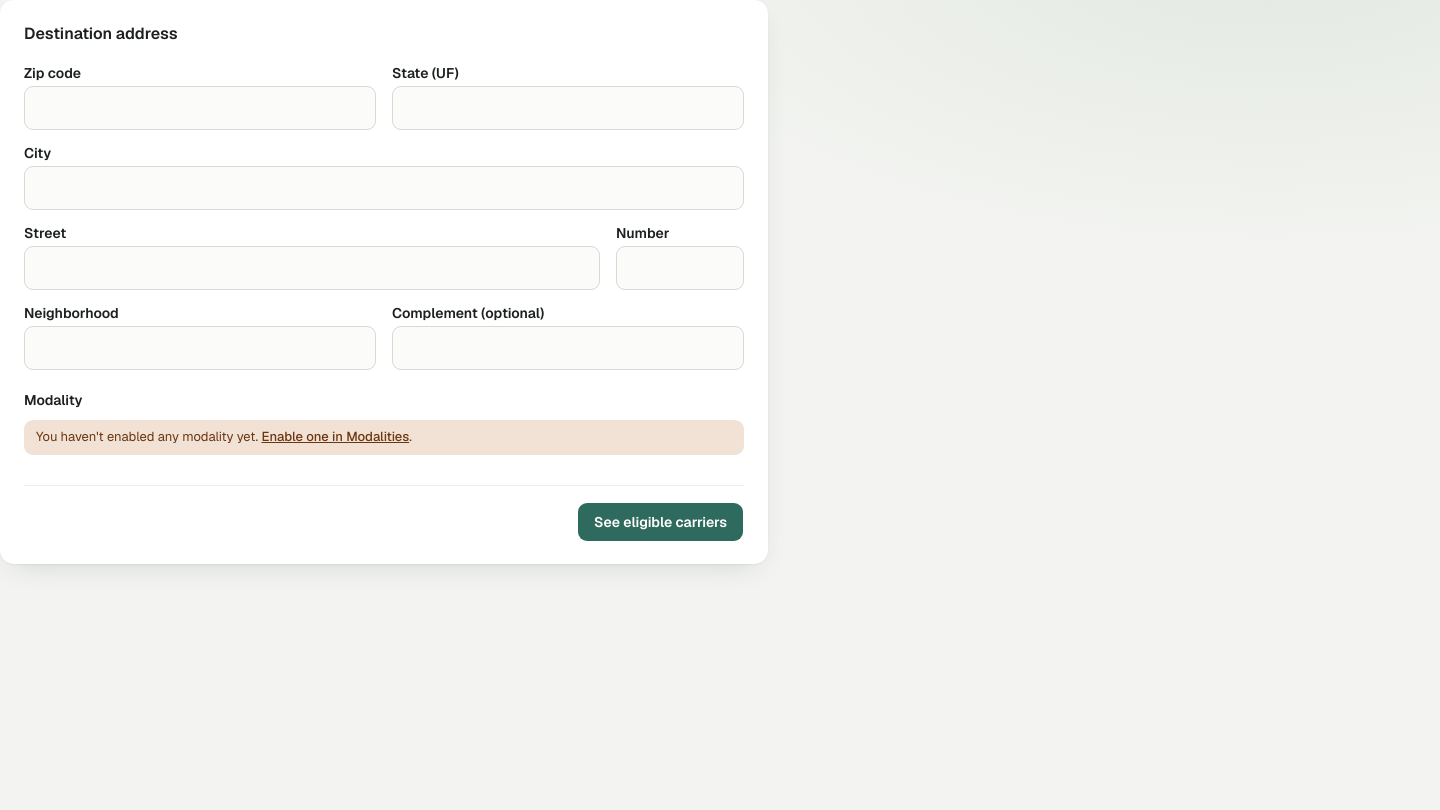
Scenario: ShipmentAddressForm › requires every address field and a chosen modality
The width and height of the screenshot is (1440, 810).
Expected: the text "haven't enabled any modality" is shown, [36,428,258,445]
Click the button "See eligible carriers". click: (661, 522)
box: [577,502,744,542]
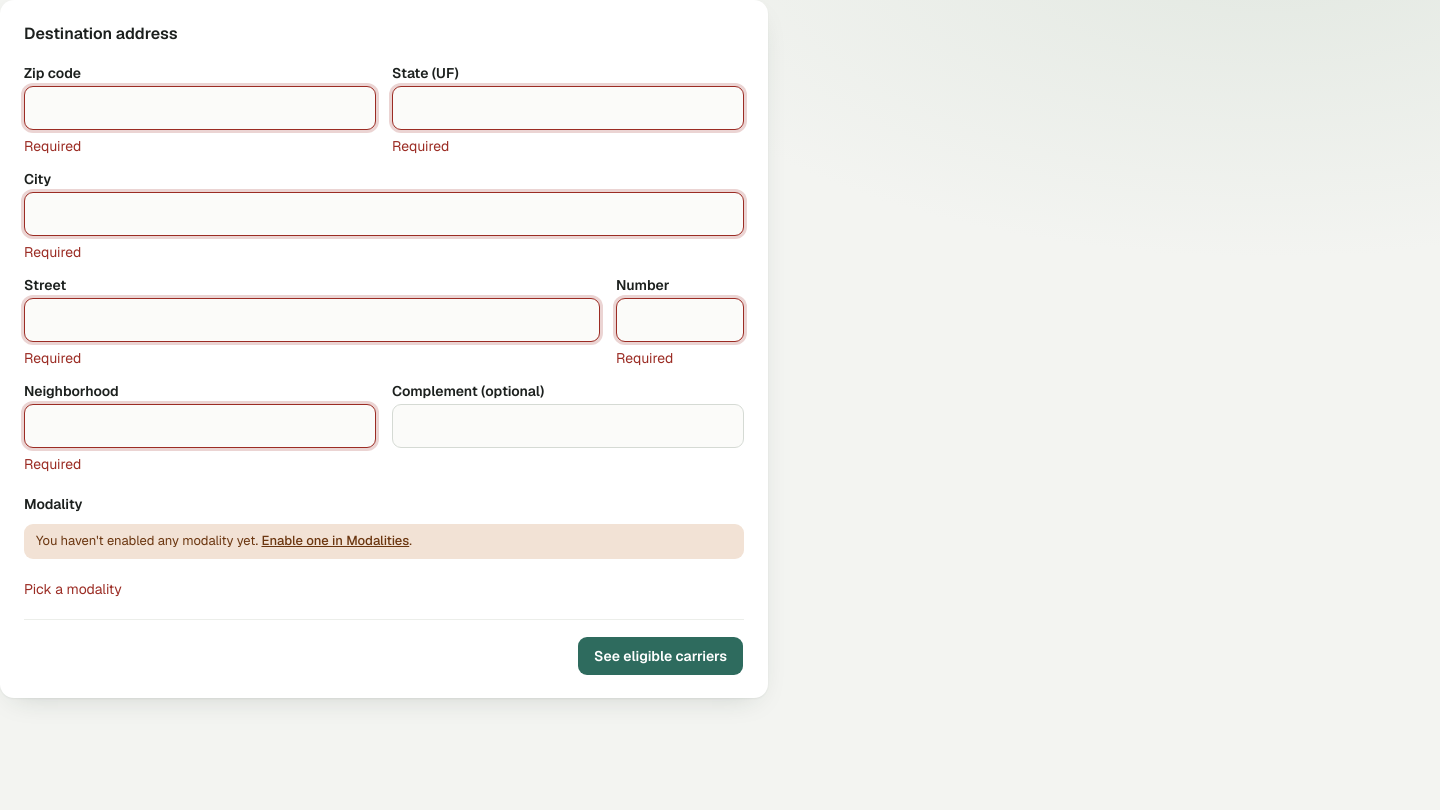
Expected: the text "Required" is shown 6 times, [24,137,81,155]; [392,137,449,155]; [24,243,81,261]; [24,349,81,367]; [616,349,673,367]; [24,455,81,473]
Expected: the text "Pick a modality" is shown, [24,580,122,598]
